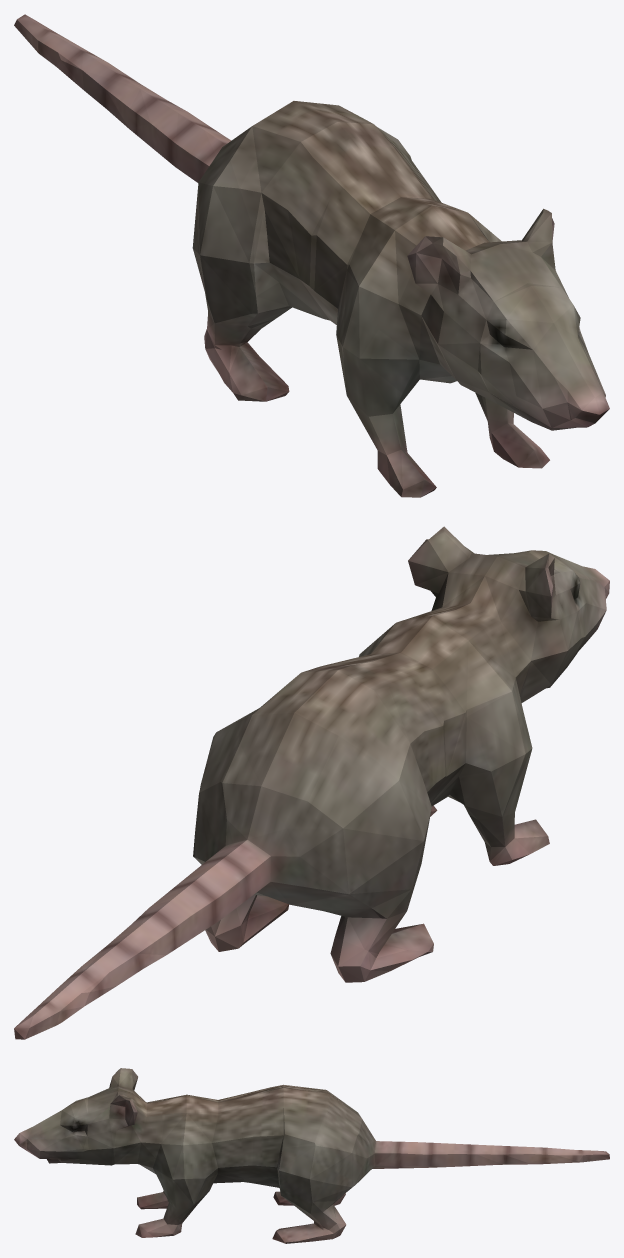
Rendered from r32_tier_ratte.glb.
3 renders of one model, top to bottom at view 1: azimuth 30°, elevation 25°; view 2: azimuth 150°, elevation 25°; view 3: azimuth 270°, elevation 25°, orthographic. The views are drawn at different scales.
Parts seen in each view (by area): view 1: ratte; view 2: ratte; view 3: ratte.
Part boxes in pixels (x1,y1,x2,y2): ratte: [14, 14, 609, 497]; ratte: [14, 526, 609, 1039]; ratte: [14, 1068, 609, 1243].
Bounding box in the file's own units: 0.8636 × 1 × 3.89.
1 material, 1 textured.
